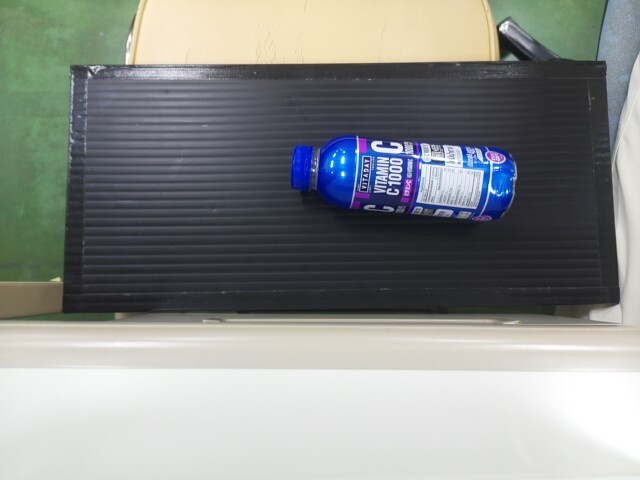plastic_bottle: (290, 129, 515, 222)
